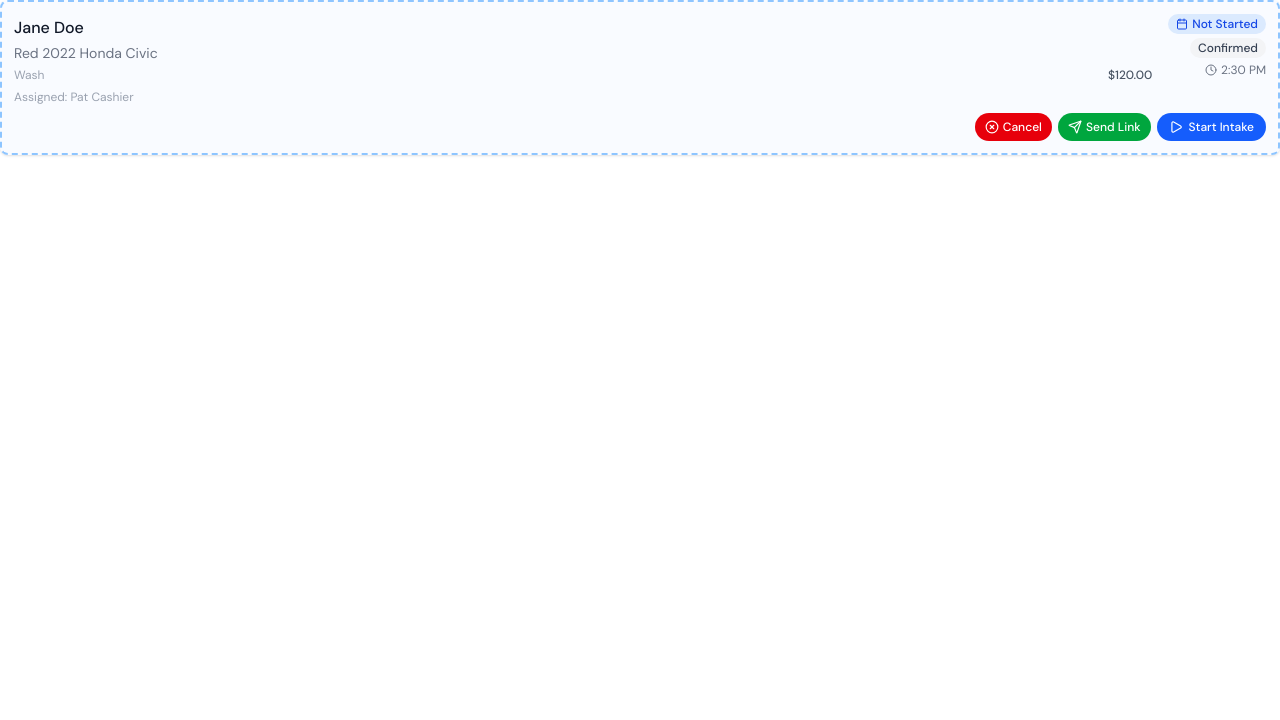
UnstartedAppointmentCard — 422 future_date popup › Cancel button closes the popup without action
Click the button with test id "start-intake-btn-apt-1" at (1211, 127), box [1156,113,1266,141]
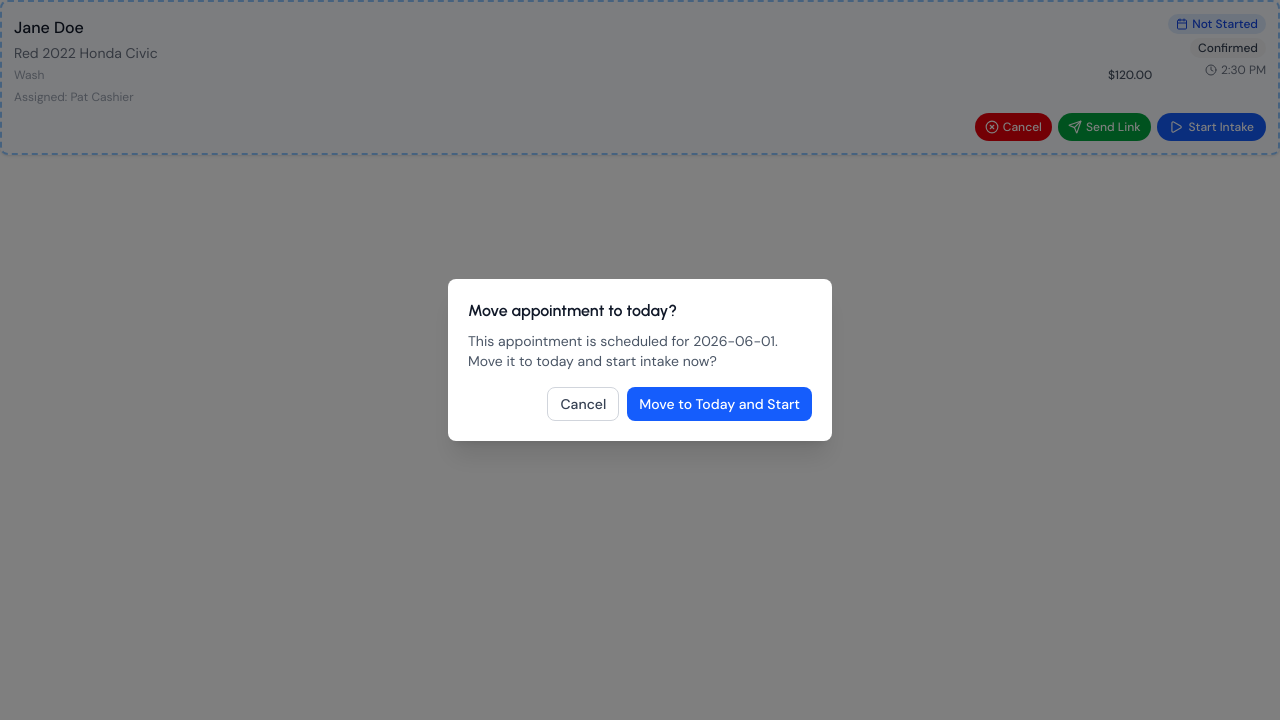
Check: the dialog with test id "future-date-prompt" is shown
Click the button with test id "future-date-prompt-cancel" at (583, 404), box [548,387,619,421]
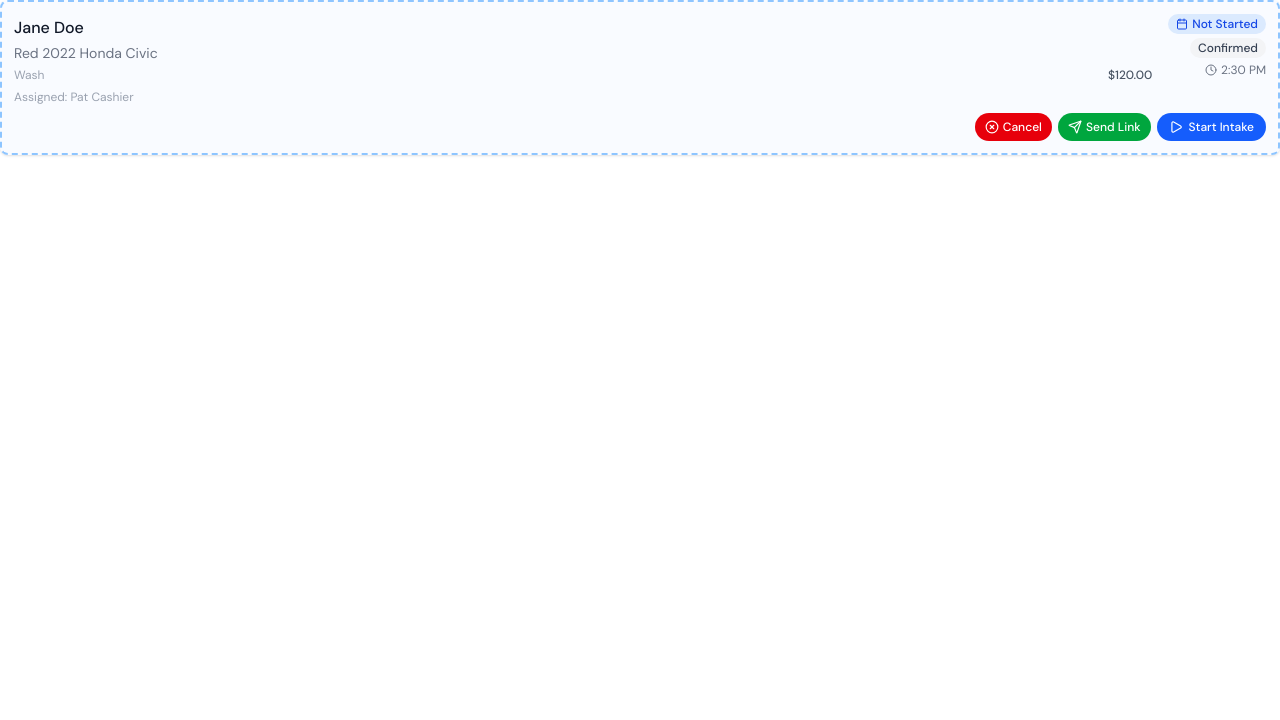
Check: the dialog with test id "future-date-prompt" is gone
